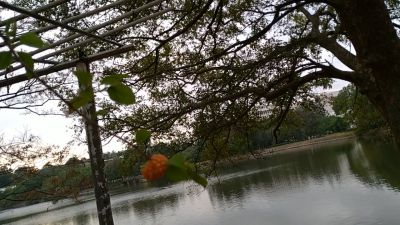eggs: (142, 152, 169, 182)
